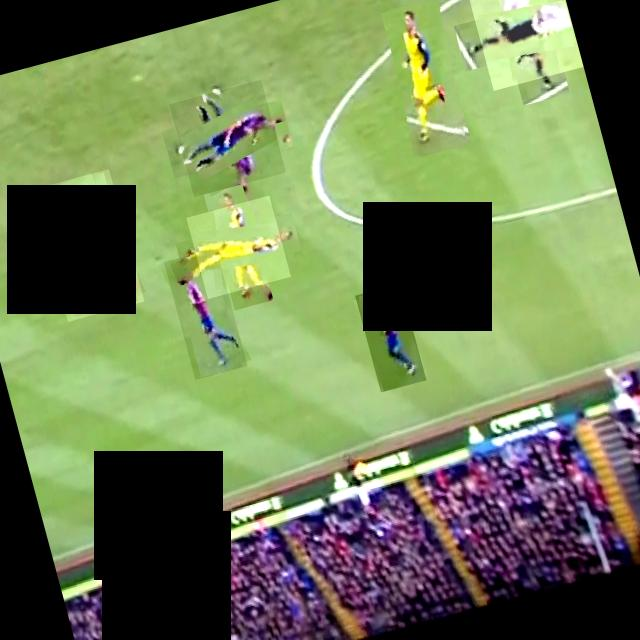referee: (468, 0, 583, 90)
soccer-player: (32, 168, 144, 322), (377, 0, 474, 158), (168, 80, 286, 196), (164, 248, 248, 380), (186, 195, 290, 298), (355, 283, 426, 392)
